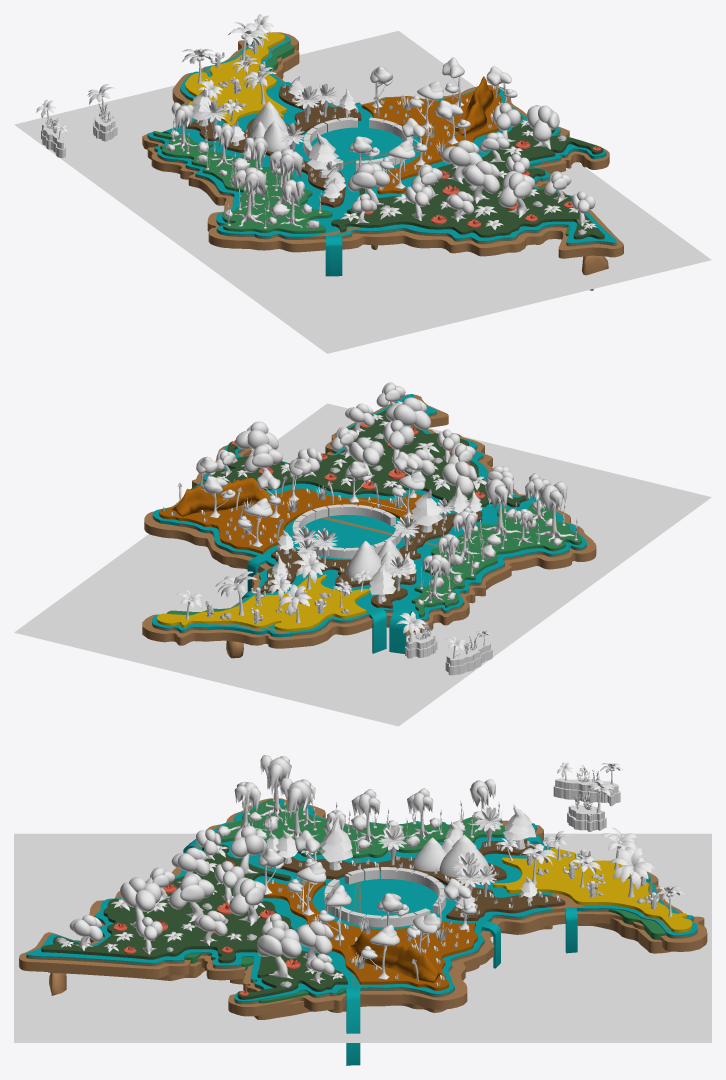
The model's file is Colombia Completa 01.fbx.
The picture shows the model from 3 angles, top to bottom: view 1: azimuth 30°, elevation 25°; view 2: azimuth 150°, elevation 25°; view 3: azimuth 270°, elevation 25°; orthographic projection. The views are drawn at different scales.
Visible parts, largest first — view 1: Plane.001, Malla agua 1, Curva piso Colombia.001, Curva Amazonas.001, Curva Pacifico.001, Curva Orinoquia.001, Curva Atlantico.001, Curva Andina.001, Curva agua, Malla REGIONES JUNTAS, Muro, Arbol Amazonas.007 (+21 smaller); view 2: Plane.001, Malla agua 1, Curva piso Colombia.001, Curva Amazonas.001, Curva Orinoquia.001, Curva Pacifico.001, Curva Atlantico.001, Malla REGIONES JUNTAS, Curva Andina.001, Montañas orinoquia, Muro, Curva agua (+21 smaller); view 3: Plane.001, Malla agua 1, Curva piso Colombia.001, Curva Amazonas.001, Curva Atlantico.001, Curva Orinoquia.001, Curva Pacifico.001, Curva Andina.001, Colombia piso, Muro, Montañas orinoquia, Curva agua (+41 smaller).
Boxes of the visible parts, x1,y1,x2,y2 form: Plane.001: (14,31,711,353); Malla agua 1: (147,34,616,276); Curva piso Colombia.001: (142,32,623,258); Curva Amazonas.001: (331,123,604,239); Curva Pacifico.001: (153,131,332,233); Curva Orinoquia.001: (354,86,521,194); Curva Atlantico.001: (185,32,286,125); Curva Andina.001: (186,85,361,207); Curva agua: (147,41,616,246); Malla REGIONES JUNTAS: (153,38,522,233); Muro: (303,117,412,171); Arbol Amazonas.007: (498,171,534,217); Plane.001: (14,403,711,726); Malla agua 1: (152,394,586,653); Curva piso Colombia.001: (142,394,596,648); Curva Amazonas.001: (210,400,528,507); Curva Orinoquia.001: (159,488,421,553); Curva Pacifico.001: (412,503,581,616); Curva Atlantico.001: (157,574,369,628); Malla REGIONES JUNTAS: (157,507,581,631); Curva Andina.001: (261,511,482,607); Montañas orinoquia: (170,478,270,516); Muro: (292,504,401,558); Curva agua: (152,412,586,636); Plane.001: (14,833,711,1042); Malla agua 1: (26,799,697,1065); Curva piso Colombia.001: (19,798,707,1016); Curva Amazonas.001: (41,844,347,999); Curva Atlantico.001: (493,848,692,932); Curva Orinoquia.001: (263,880,477,990); Curva Pacifico.001: (216,799,532,858); Curva Andina.001: (280,839,564,920); Colombia piso: (48,918,671,1019); Muro: (324,867,445,927); Montañas orinoquia: (348,931,440,982); Curva agua: (26,812,697,1004).
Bounding box in the file's own units: 2895 × 1104 × 3825.
